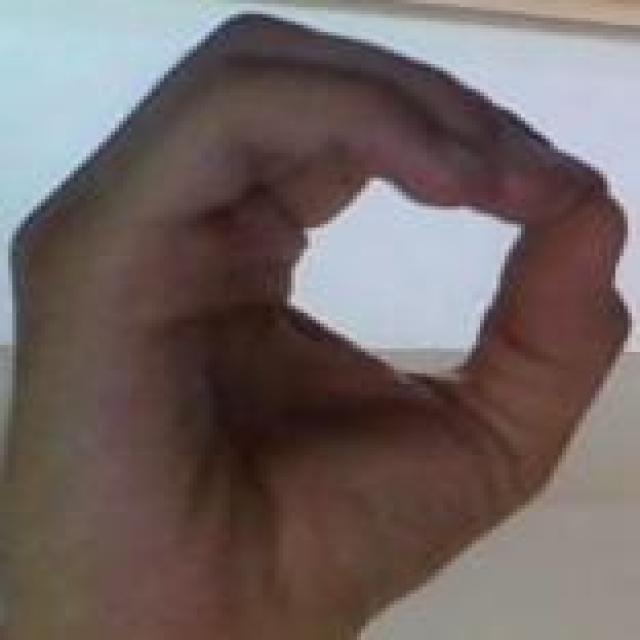O: (10, 9, 634, 617)
